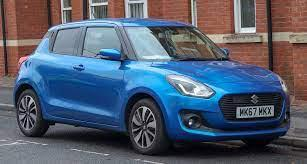Hatchback: (13, 19, 291, 154)
